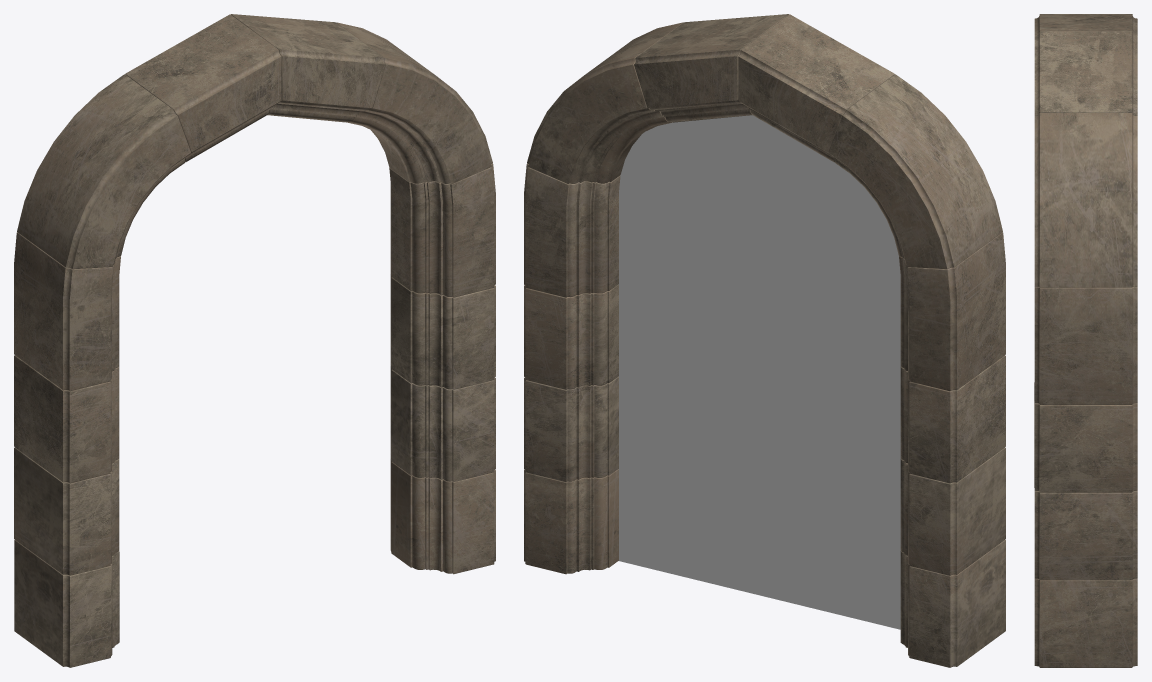
Rendered from doorway_v2.glb.
The picture shows the model from 3 angles, left to right: view 1: azimuth 30°, elevation 25°; view 2: azimuth 150°, elevation 25°; view 3: azimuth 270°, elevation 25°; orthographic projection. The views are drawn at different scales.
Parts seen in each view (by area): view 1: Doorway; view 2: Doorway, DoorVideo; view 3: Doorway.
Part boxes in pixels (bbox=[...]): Doorway: bbox=[14, 14, 495, 667]; Doorway: bbox=[524, 14, 1005, 667]; DoorVideo: bbox=[618, 115, 900, 629]; Doorway: bbox=[1034, 14, 1137, 667].
Size of the model in its own units: 3.69 by 4.59 by 0.8016.
1 material, 1 textured.
